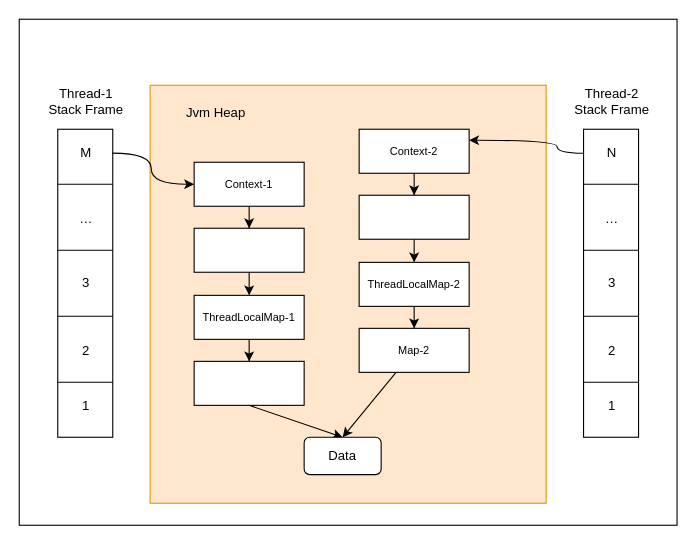
Image size: 696x545. Some labels were removed from this diagram. Each missing label, with the centre of its shape:
Map-1: the point at 248,382
Thread-1: the point at 248,249
Thread-2: the point at 413,216
